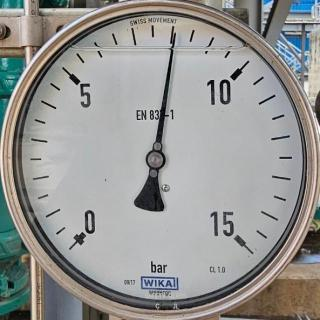gauge: (0, 0, 320, 320), (217, 217, 254, 255), (66, 217, 98, 251), (144, 148, 167, 170), (171, 32, 178, 40)
